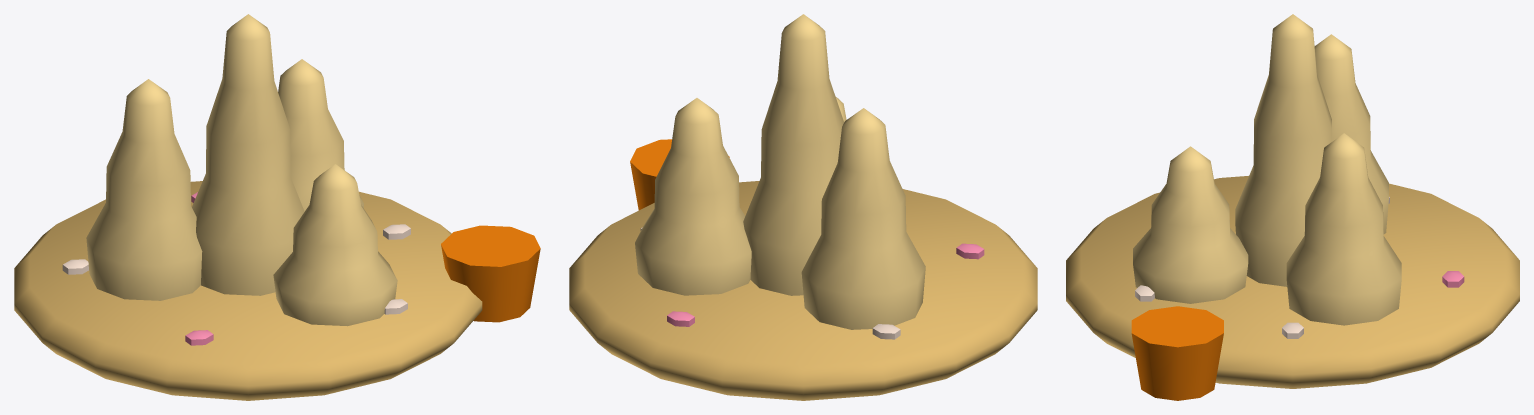
File: W3_Sandcastle_B.fbx
The picture shows the model from 3 angles, left to right: view 1: azimuth 30°, elevation 25°; view 2: azimuth 150°, elevation 25°; view 3: azimuth 270°, elevation 25°; orthographic projection. The views are drawn at different scales.
Parts seen in each view (by area): view 1: W3_Sandcastle_B; view 2: W3_Sandcastle_B; view 3: W3_Sandcastle_B.
Part boxes in pixels (x1,y1,x2,y2): W3_Sandcastle_B: (14,14,540,400); W3_Sandcastle_B: (569,14,1037,400); W3_Sandcastle_B: (1066,14,1519,400).
Bounding box in the file's own units: 3.78 × 2.45 × 3.55.
